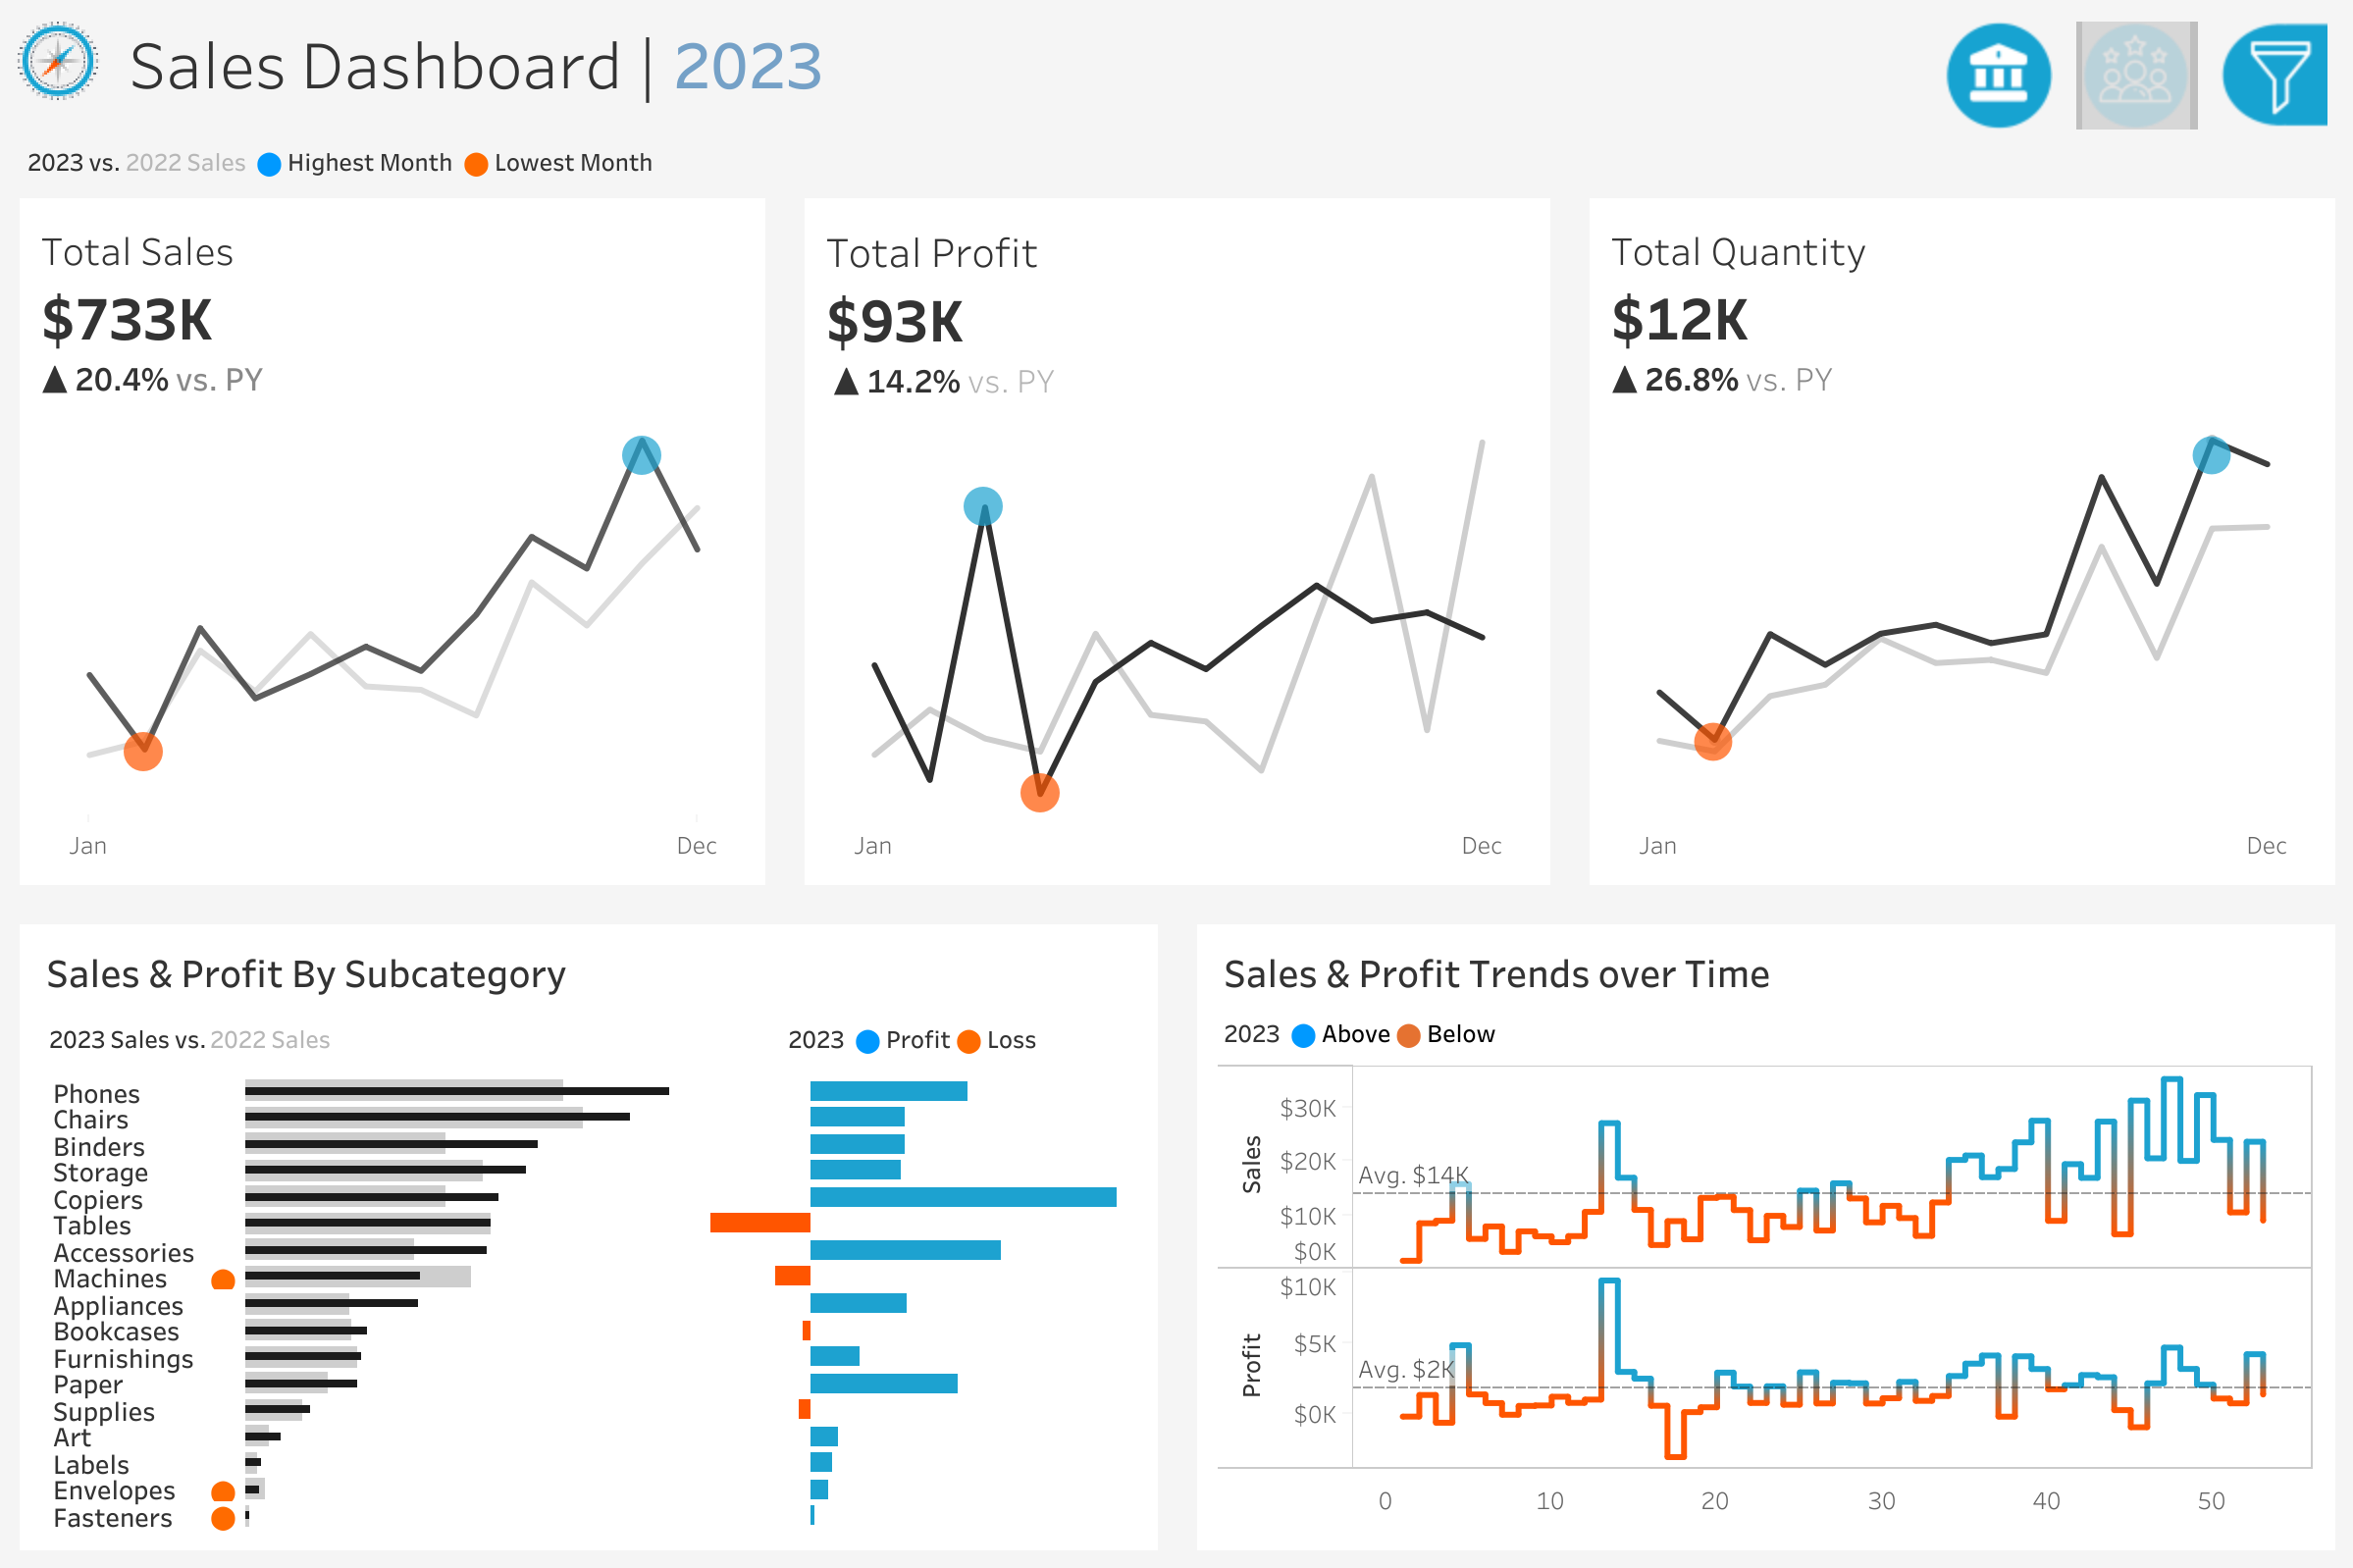

The dashboard page shown, as its layout file describes it:
{"tool":"tableau","page":{"name":"Sales Dashboard","canvas":[1200,800],"ordinal":1},"visuals":[{"type":"image","param":"/Users/user/Documents/IT/VIZ/sales-dashboard-project/images/Icon - Logo.png","box":[0,0,59,63]},{"type":"text","box":[59,0,934,63]},{"type":"dashboard-object","box":[983,7,71,63]},{"type":"dashboard-object","box":[1054,7,70,63]},{"type":"dashboard-object","box":[1124,7,70,63]},{"type":"blank","box":[997,11,186,89]},{"type":"worksheet","title":"Legend KPI","mark":"Automatic","box":[0,63,1200,38]},{"type":"text","box":[997,100,186,32]},{"type":"worksheet","title":"KPI Sales","mark":"Line","rows":["Calculation_1170579129090059"],"cols":["Order Date"],"box":[0,101,400,360]},{"type":"worksheet","title":"KPI Profit","mark":"Automatic","rows":["Calculation_1525927859105800"],"cols":["Order Date"],"box":[400,101,400,360]},{"type":"worksheet","title":"Total Quantity","mark":"Automatic","rows":["Calculation_2164194736517121"],"cols":["Order Date"],"box":[800,101,400,360]},{"type":"parameter","param":"[Parameters].[Parameter 1170579116474375]","box":[997,132,186,52]},{"type":"blank","box":[997,184,186,32]},{"type":"text","box":[997,216,186,29]},{"type":"filter","title":"KPI Sales","param":"[federated.0mg5h581glawp71akunoh1monruf].[none:Category:nk]","box":[997,245,186,52]},{"type":"filter","title":"KPI Sales","param":"[federated.0mg5h581glawp71akunoh1monruf].[none:Sub-Category:nk]","box":[997,297,186,56]},{"type":"text","box":[997,353,186,29]},{"type":"filter","title":"KPI Sales","param":"[federated.0mg5h581glawp71akunoh1monruf].[none:Region:nk]","box":[997,382,186,52]},{"type":"filter","title":"KPI Sales","param":"[federated.0mg5h581glawp71akunoh1monruf].[none:State:nk]","box":[997,434,186,52]},{"type":"text","box":[17,478,566,34]},{"type":"text","box":[617,478,566,34]},{"type":"filter","title":"KPI Sales","param":"[federated.0mg5h581glawp71akunoh1monruf].[none:City:nk]","box":[997,486,186,52]},{"type":"worksheet","title":"Legend Subcategory","mark":"Automatic","box":[17,512,378,32]},{"type":"text","box":[395,512,188,32]},{"type":"text","box":[617,512,566,25]},{"type":"worksheet","title":"Weekly Trends","mark":"Automatic","rows":["Calculation_1525927841558530","Calculation_1170579113881604","Calculation_1525927855984645"],"cols":["Order Date"],"box":[617,537,566,246]},{"type":"worksheet","title":"Subcategoty  Comparison","mark":"Bar","rows":["Sub-Category","Calculation_2164194973163527"],"cols":["CY Sales (copy)_1170579115749381","Calculation_1170579113881604","Calculation_1525927855984645"],"box":[17,544,566,239]}]}

Visuals, with their boxes in screenshot pixels (x1, y1, x2, y2), scaled from the page's 1200x800 canvas onto the 2353x1568 screenshot:
image: l=0, t=0, r=116, b=124
text: l=116, t=0, r=1947, b=124
dashboard-object: l=1927, t=14, r=2066, b=137
dashboard-object: l=2066, t=14, r=2204, b=137
dashboard-object: l=2204, t=14, r=2341, b=137
blank: l=1955, t=22, r=2320, b=196
"Legend KPI" worksheet: l=0, t=124, r=2352, b=198
text: l=1955, t=196, r=2320, b=259
"KPI Sales" worksheet (Line marks): l=0, t=198, r=784, b=904
"KPI Profit" worksheet: l=784, t=198, r=1569, b=904
"Total Quantity" worksheet: l=1569, t=198, r=2352, b=904
parameter: l=1955, t=259, r=2320, b=361
blank: l=1955, t=361, r=2320, b=423
text: l=1955, t=423, r=2320, b=480
"KPI Sales" filter: l=1955, t=480, r=2320, b=582
"KPI Sales" filter: l=1955, t=582, r=2320, b=692
text: l=1955, t=692, r=2320, b=749
"KPI Sales" filter: l=1955, t=749, r=2320, b=851
"KPI Sales" filter: l=1955, t=851, r=2320, b=953
text: l=33, t=937, r=1143, b=1004
text: l=1210, t=937, r=2320, b=1004
"KPI Sales" filter: l=1955, t=953, r=2320, b=1055
"Legend Subcategory" worksheet: l=33, t=1004, r=774, b=1067
text: l=774, t=1004, r=1143, b=1067
text: l=1210, t=1004, r=2320, b=1053
"Weekly Trends" worksheet: l=1210, t=1053, r=2320, b=1535
"Subcategoty  Comparison" worksheet (Bar marks): l=33, t=1067, r=1143, b=1535
